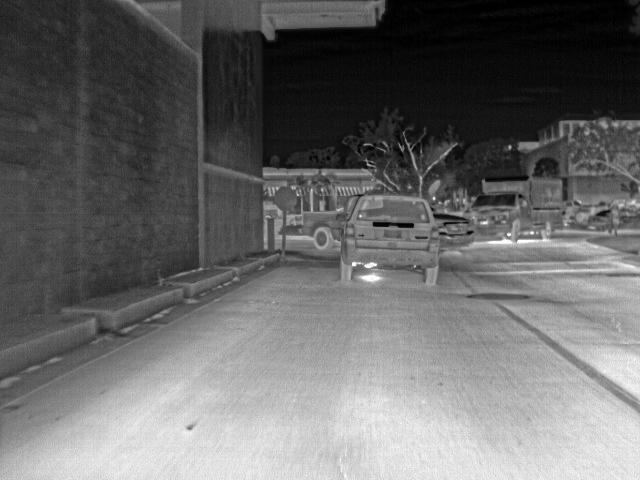car: (339, 191, 441, 285), (300, 209, 343, 252), (438, 215, 472, 256), (623, 208, 640, 231), (573, 205, 591, 226), (563, 200, 578, 224), (590, 208, 607, 228)
person: (609, 202, 622, 236)
